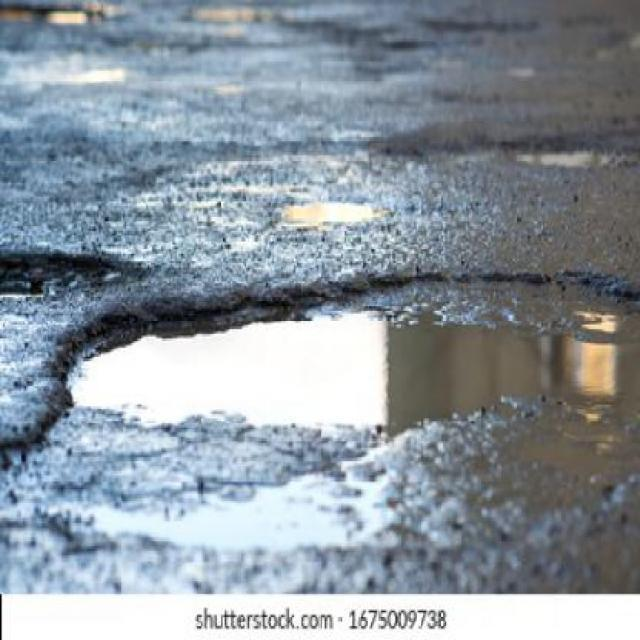Pothole: (3, 249, 640, 565), (0, 249, 129, 306), (505, 138, 632, 172), (274, 195, 386, 232)
